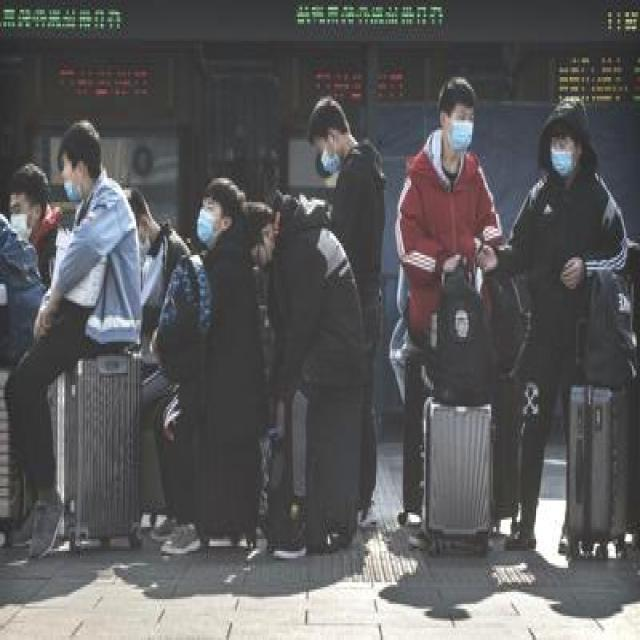hairnet: (59, 128, 101, 205)
